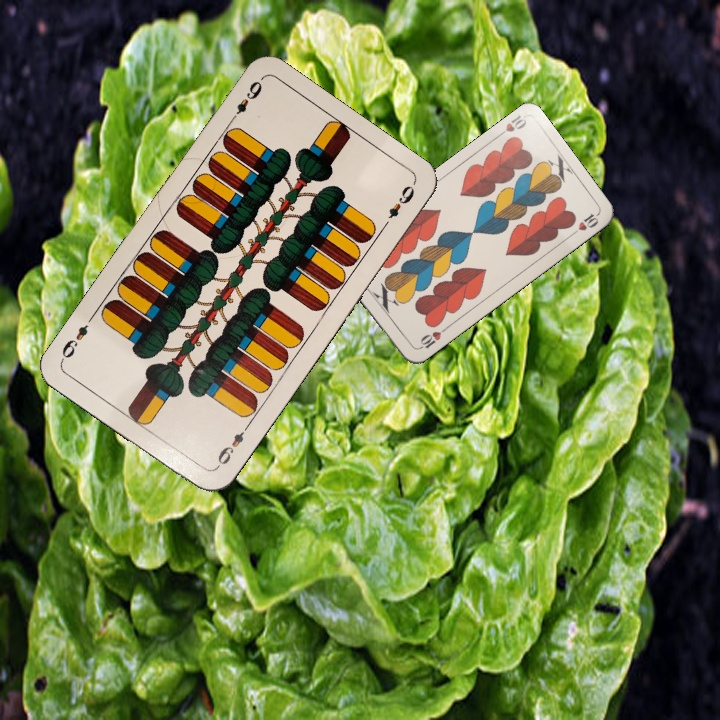E9: (212, 420, 252, 471), (225, 76, 265, 126)
H10: (492, 111, 529, 141), (413, 324, 449, 352)
